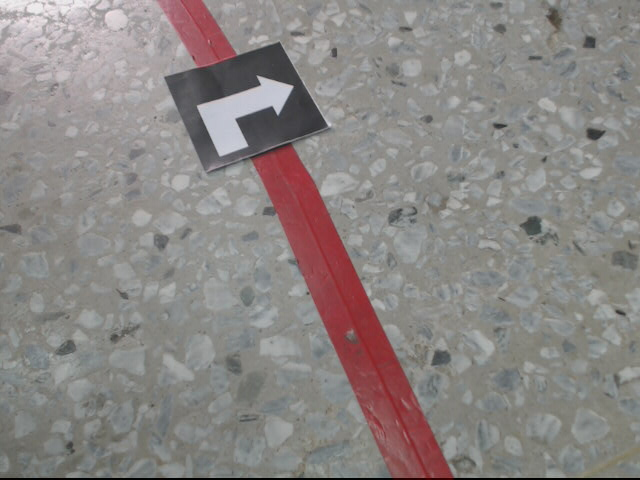right: (164, 41, 331, 174)
